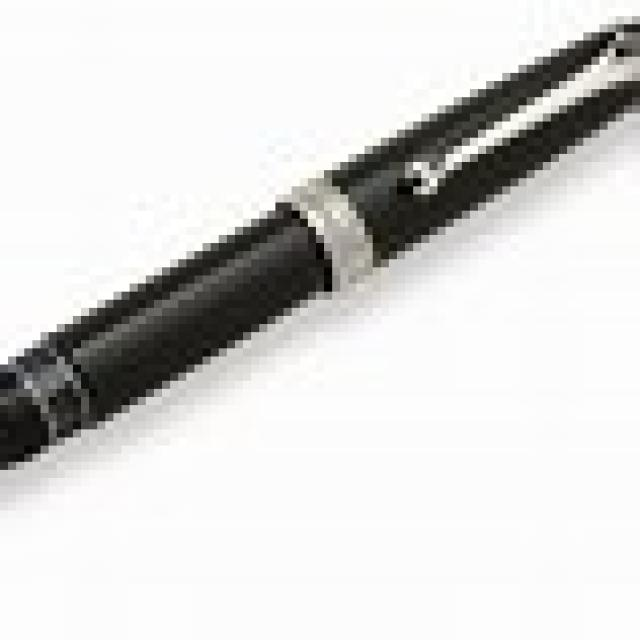pen: (0, 16, 640, 459)
